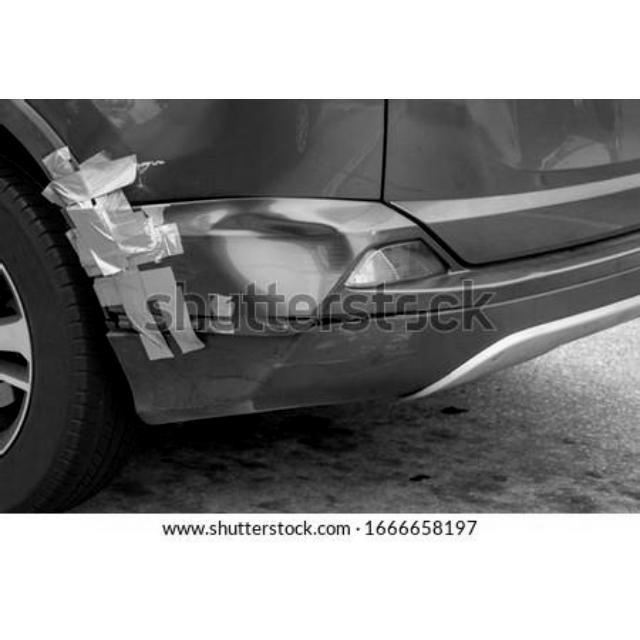rear-bumper-dent: (33, 147, 404, 390)
